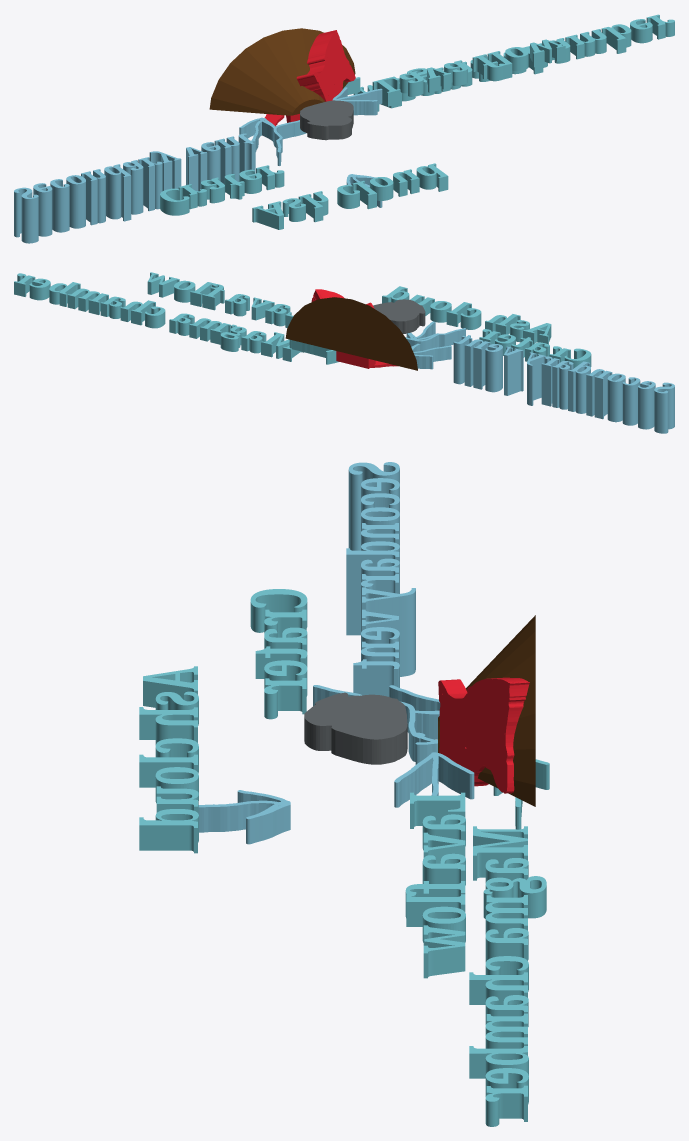
File: tinker.obj
3 renders of one model, top to bottom at view 1: azimuth 30°, elevation 25°; view 2: azimuth 150°, elevation 25°; view 3: azimuth 270°, elevation 25°, orthographic. The views are drawn at different scales.
Parts seen in each view (by area): view 1: obj_5, obj_0, obj_7, obj_10, obj_14, obj_12, obj_1, obj_6, obj_9, obj_4, obj_11; view 2: obj_5, obj_14, obj_0, obj_10, obj_7, obj_12, obj_6, obj_4, obj_11, obj_13, obj_3, obj_8; view 3: obj_14, obj_5, obj_7, obj_10, obj_1, obj_6, obj_12, obj_0, obj_8, obj_9, obj_11, obj_4.
Part boxes in pixels (x1=…): obj_5: x1=14, y1=133, x2=255, y2=243; obj_0: x1=209, y1=28, x2=355, y2=115; obj_7: x1=252, y1=163, x2=448, y2=229; obj_10: x1=372, y1=39, x2=565, y2=106; obj_14: x1=353, y1=14, x2=674, y2=111; obj_12: x1=160, y1=165, x2=284, y2=215; obj_1: x1=296, y1=30, x2=355, y2=101; obj_6: x1=300, y1=100, x2=353, y2=140; obj_9: x1=332, y1=87, x2=382, y2=115; obj_4: x1=239, y1=117, x2=274, y2=151; obj_11: x1=273, y1=120, x2=306, y2=165; obj_5: x1=453, y1=335, x2=674, y2=433; obj_14: x1=14, y1=273, x2=303, y2=361; obj_0: x1=285, y1=297, x2=417, y2=370; obj_10: x1=147, y1=272, x2=293, y2=327; obj_7: x1=382, y1=286, x2=551, y2=344; obj_12: x1=479, y1=329, x2=591, y2=368; obj_6: x1=373, y1=299, x2=425, y2=333; obj_4: x1=411, y1=343, x2=451, y2=369; obj_11: x1=405, y1=328, x2=465, y2=350; obj_13: x1=289, y1=339, x2=338, y2=364; obj_3: x1=336, y1=351, x2=375, y2=368; obj_8: x1=406, y1=321, x2=438, y2=340; obj_14: x1=469, y1=826, x2=546, y2=1126; obj_5: x1=346, y1=462, x2=415, y2=696; obj_7: x1=139, y1=666, x2=198, y2=853; obj_10: x1=405, y1=792, x2=465, y2=978; obj_1: x1=438, y1=677, x2=529, y2=793; obj_6: x1=304, y1=692, x2=407, y2=764; obj_12: x1=250, y1=589, x2=307, y2=719; obj_0: x1=438, y1=615, x2=535, y2=806; obj_8: x1=198, y1=790, x2=290, y2=844; obj_9: x1=394, y1=752, x2=474, y2=807; obj_11: x1=313, y1=685, x2=437, y2=764; obj_4: x1=389, y1=685, x2=440, y2=739.
Bounding box in the file's own units: 518 × 78 × 147.
